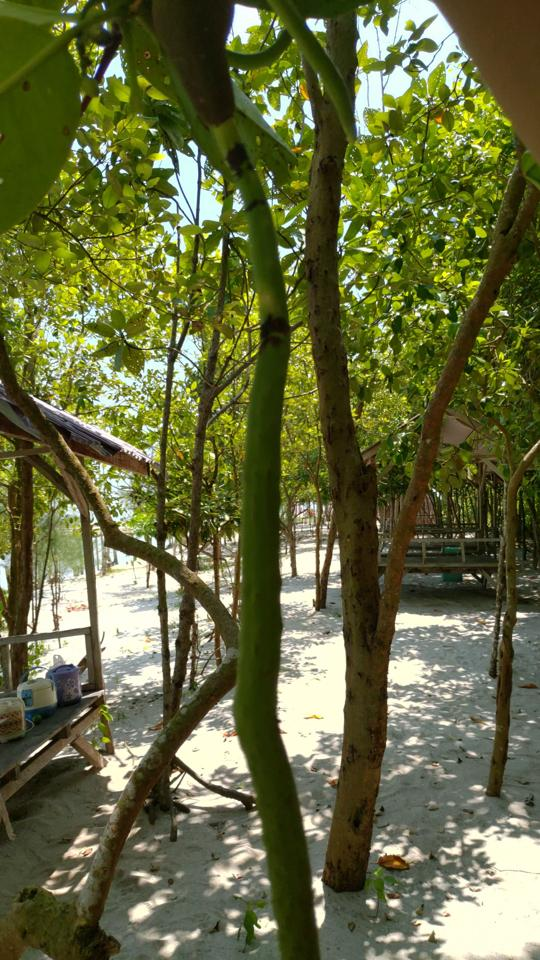setengah matang: (134, 1, 342, 958)
